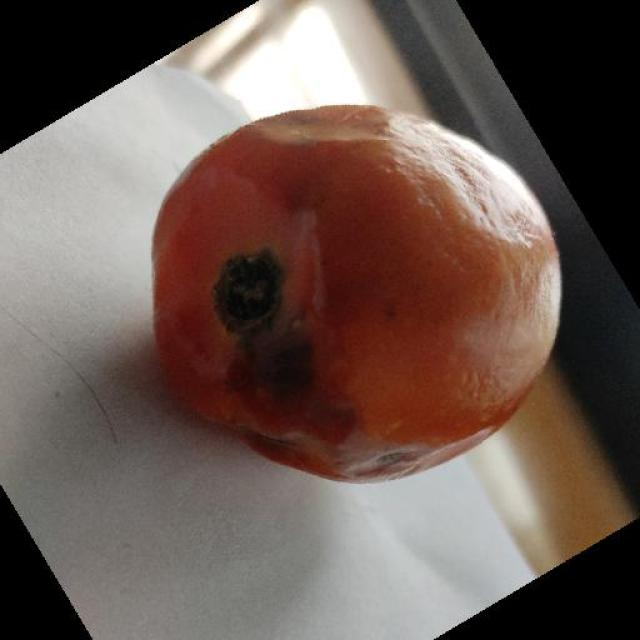Stale_tomato: (144, 112, 564, 514)
